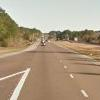Tree: (54, 25, 84, 43)
